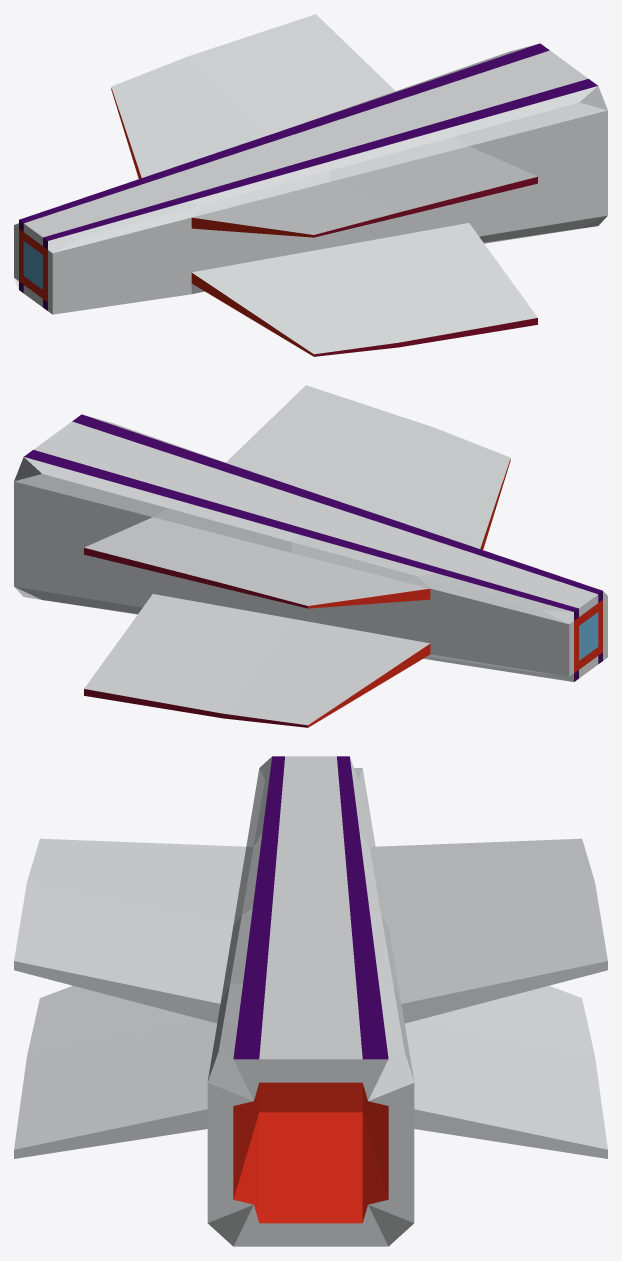
Rendered from enemy_suicide_drone.gltf.
3 views of the same model, one above another, from view 1: azimuth 30°, elevation 25°; view 2: azimuth 150°, elevation 25°; view 3: azimuth 270°, elevation 25° (orthographic). The views are drawn at different scales.
Visible parts, largest first — view 1: suicide_drone; view 2: suicide_drone; view 3: suicide_drone.
Boxes of the visible parts, x1=… form: suicide_drone: x1=14, y1=14, x2=607, y2=356; suicide_drone: x1=14, y1=385, x2=607, y2=727; suicide_drone: x1=14, y1=756, x2=607, y2=1246.
Bounding box in the file's own units: 2 × 0.5281 × 1.44.
